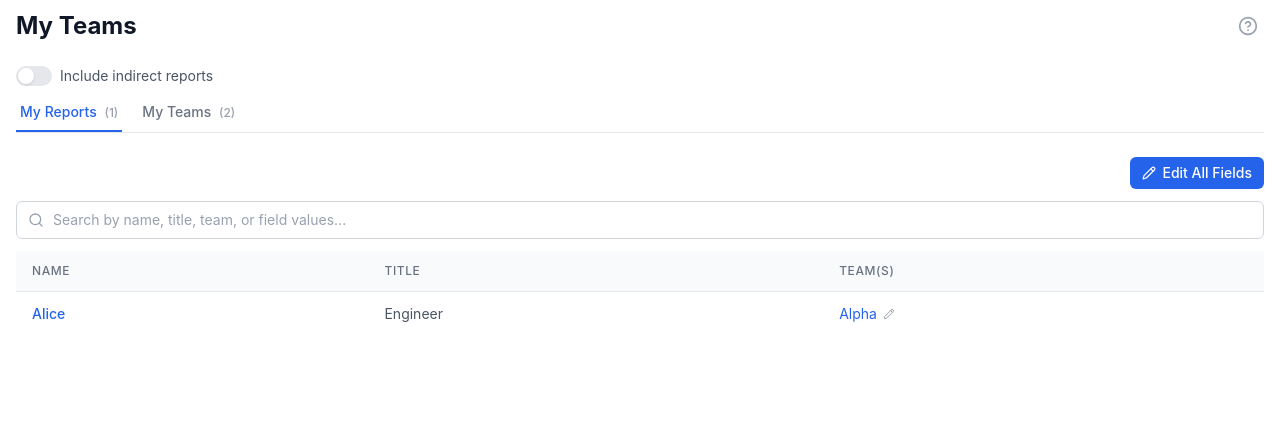
Test case: ManagerDashboardView › field completeness warnings › shows team tab banner when teams have incomplete fields
Switch to teams tab
What coordinates should you click on to do the following:
click the button "My Teams (2)"
I would click on:
 (189, 117)
Its box is [138,102,239,132].
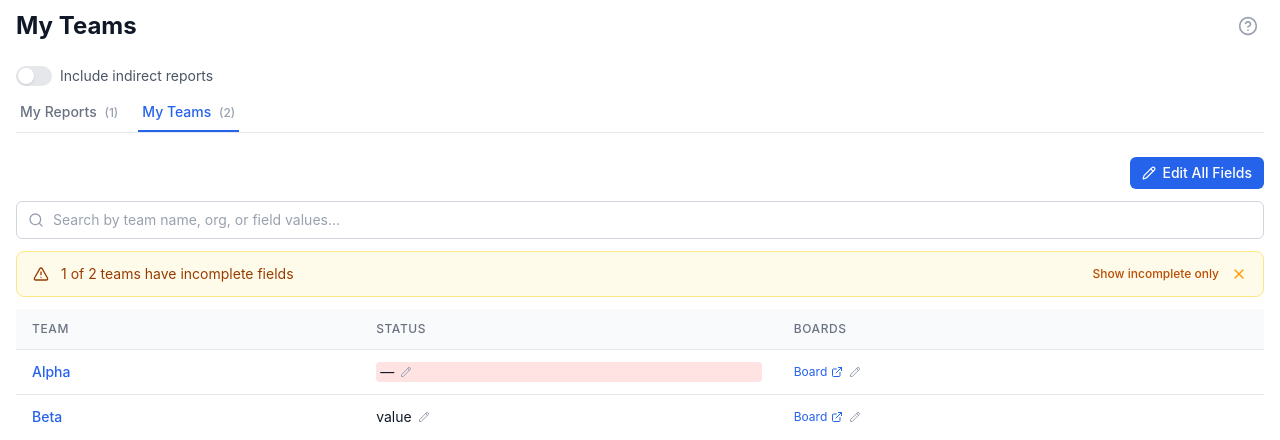
Now the text "1 of 2 teams have incomplete fields" is shown, box [61,264,294,284]
